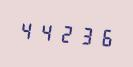four: (18, 15, 36, 44), (37, 17, 55, 45)
six: (94, 22, 112, 50)
three: (75, 20, 93, 49)
two: (56, 19, 74, 47)
